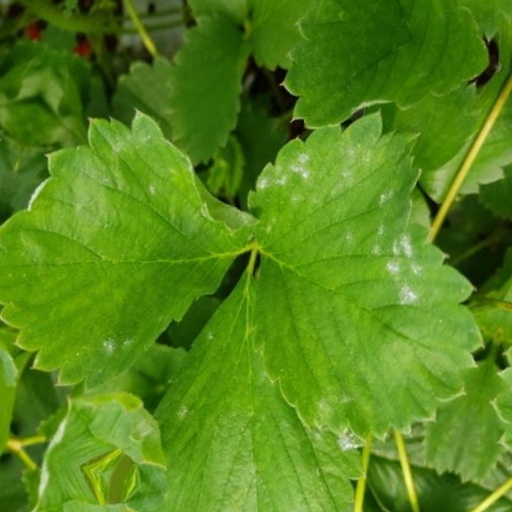Powdery Mildew Leaf: (227, 105, 503, 438), (0, 70, 256, 360), (200, 0, 429, 248)
